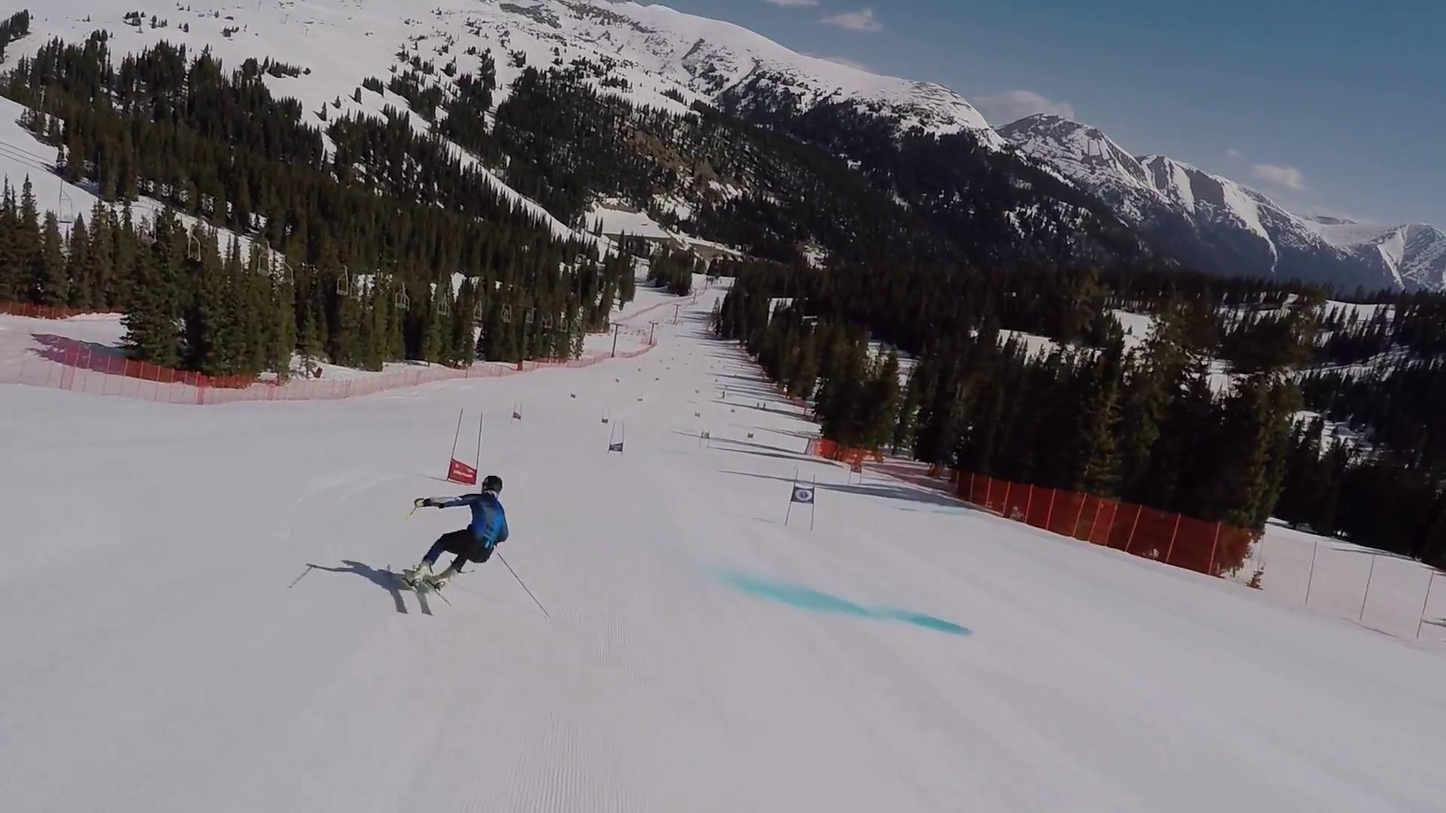gate: (446, 410, 484, 485), (786, 480, 816, 529)
